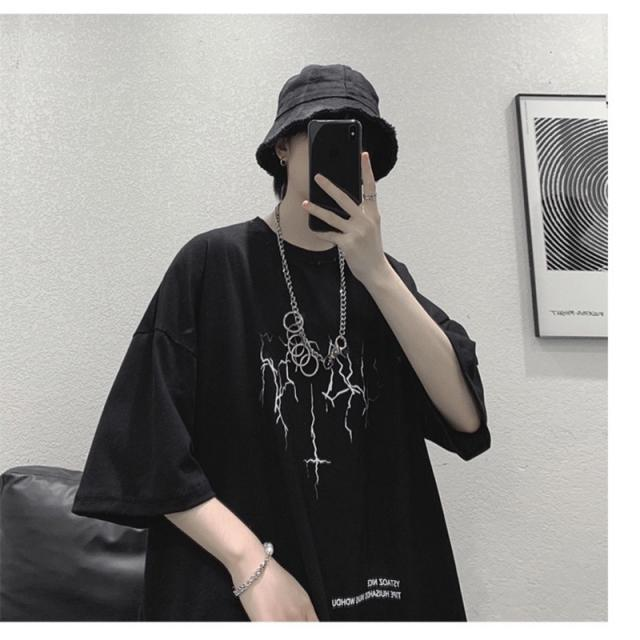Shirt: (72, 213, 496, 626)
